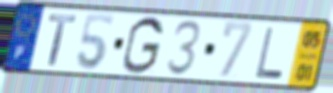3: (165, 19, 203, 77)
5: (77, 11, 118, 73)
7: (219, 20, 257, 81)
G: (120, 15, 166, 77)
L: (253, 25, 286, 81)
T: (47, 13, 78, 69)
